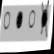correct: (14, 6, 24, 33)
no answer: (27, 6, 36, 31)
not correct: (36, 0, 53, 41)
